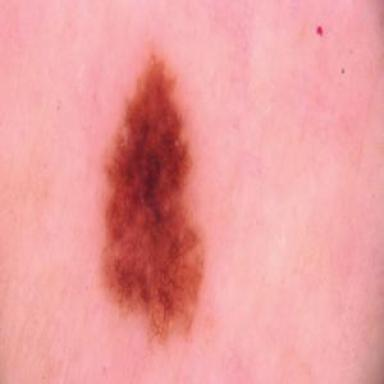Melanoma: (103, 55, 203, 336)
